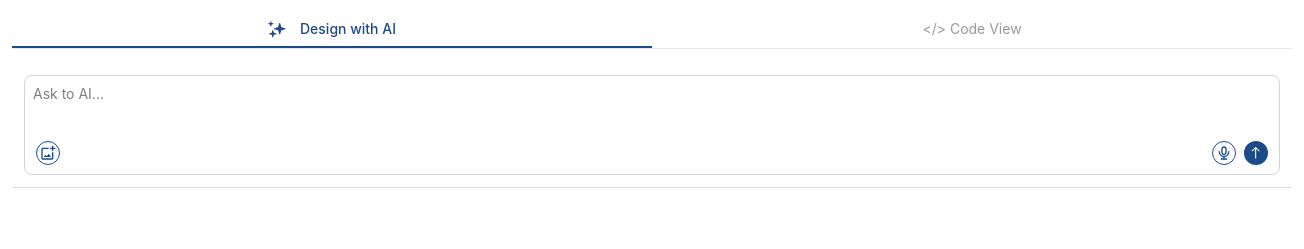
Test case: HtmlInput — sending a message › removes the loading bubble (keeps the user bubble) when send fails
In the text box with placeholder "Ask to AI...": (652, 125) [24, 75, 1280, 175], type "boom"
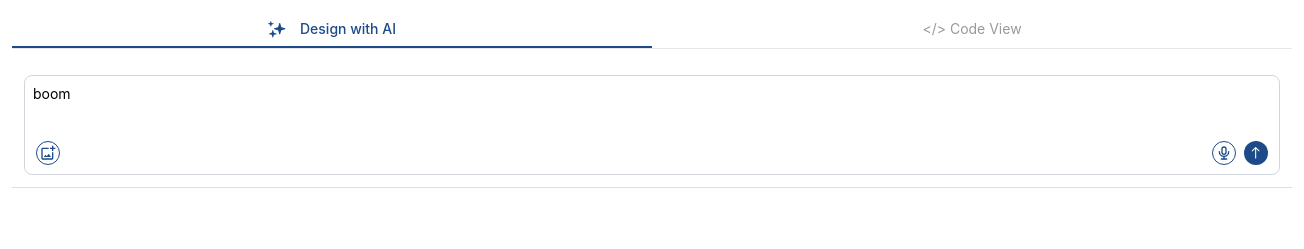
Press Enter in the text box with placeholder "Ask to AI...", box [24, 75, 1280, 175]
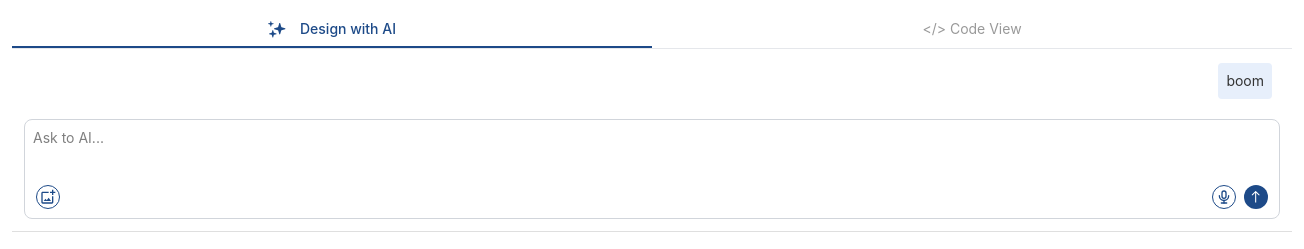
Expected: the text "boom" is shown, [1218, 63, 1272, 99]
